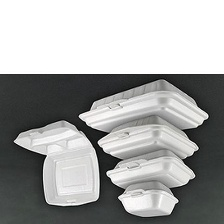foam_box: (8, 117, 103, 212), (76, 76, 213, 138), (93, 112, 203, 162), (103, 146, 196, 194), (115, 177, 182, 221)
